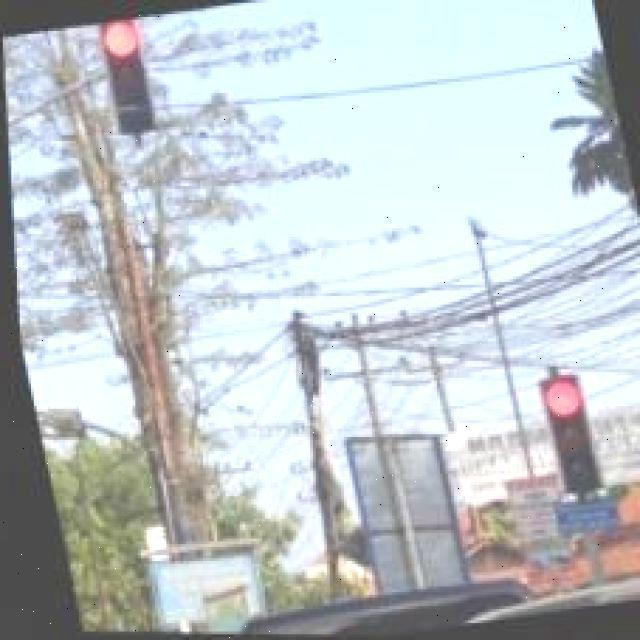red_light: (523, 353, 628, 524), (89, 8, 182, 156)
